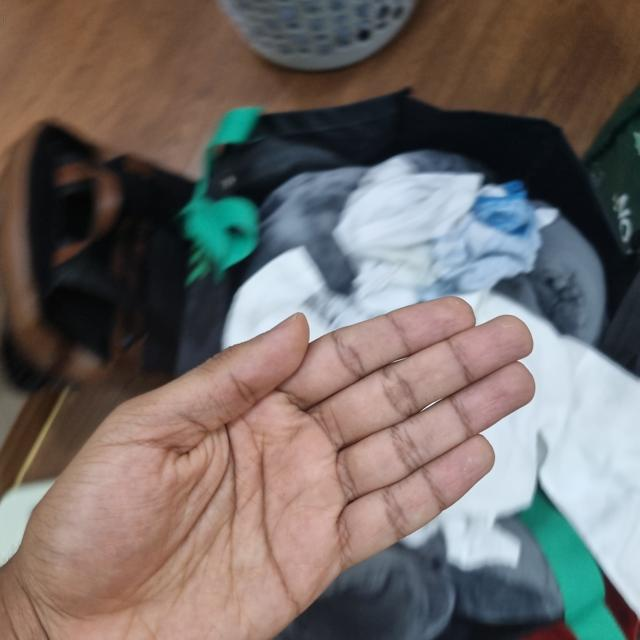Paper: (0, 295, 535, 639)
